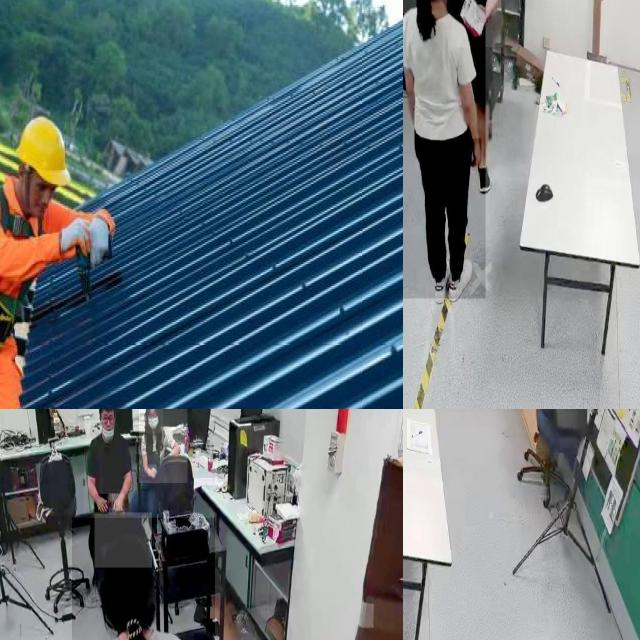Harness: (0, 193, 50, 400)
face_mask: (146, 409, 163, 433)
face_nomask: (100, 411, 115, 434)
hand_noglove: (470, 138, 482, 172), (95, 494, 109, 515), (476, 0, 488, 24), (112, 494, 125, 513), (148, 464, 157, 478)
head_nohelmet: (94, 512, 152, 568)
person: (403, 0, 486, 299), (72, 517, 215, 640), (83, 409, 132, 515), (139, 409, 188, 484), (452, 0, 504, 47)
shoes: (448, 256, 474, 304), (432, 251, 452, 304)
